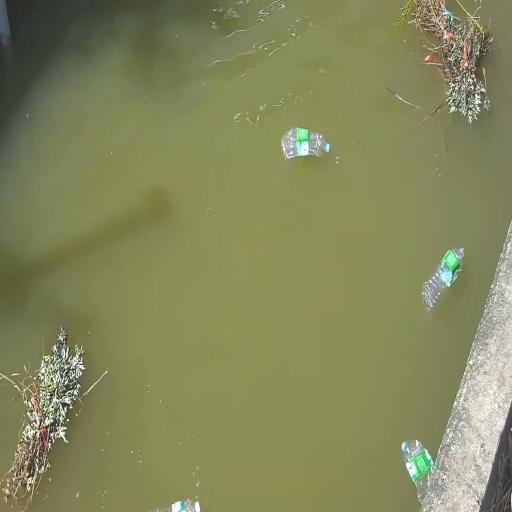plastic: (422, 248, 464, 310), (402, 440, 434, 502), (282, 128, 329, 160), (152, 500, 200, 511)
twig: (3, 326, 88, 499), (393, 0, 492, 123), (0, 372, 22, 393)
